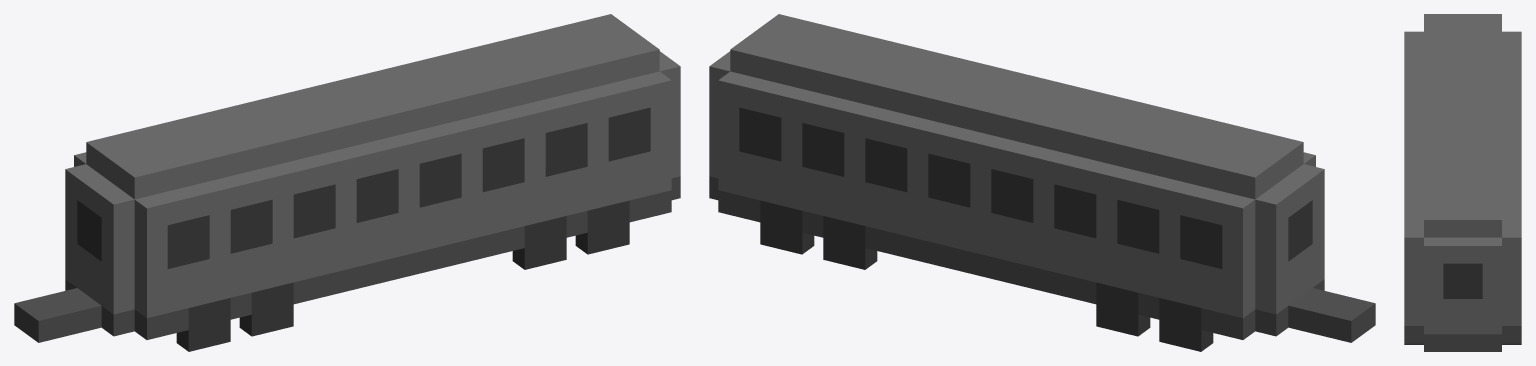
Rendered from train-trailer-v3-grey.gltf.
3 renders of one model, left to right at view 1: azimuth 30°, elevation 25°; view 2: azimuth 150°, elevation 25°; view 3: azimuth 270°, elevation 25°, orthographic. The views are drawn at different scales.
Visible parts, largest first — view 1: model, wheels; view 2: model, wheels; view 3: model.
Part boxes in pixels (<box>): model: <box>14,14,680,342</box>; wheels: <box>176,200,629,351</box>; model: <box>709,14,1375,342</box>; wheels: <box>760,200,1213,351</box>; model: <box>1404,14,1521,351</box>.
Size of the model in its own units: 3 by 0.8 by 0.6.
Materials: 2 (2 with a texture image).
